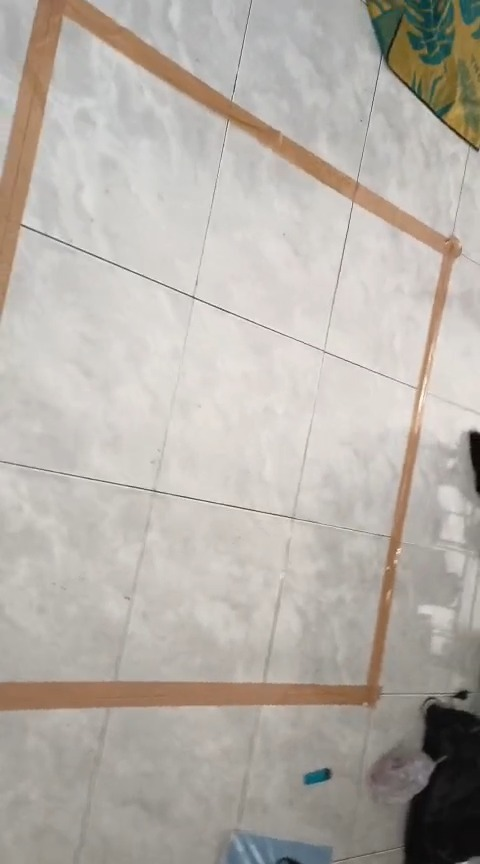floor marking: (0, 0, 460, 709)
